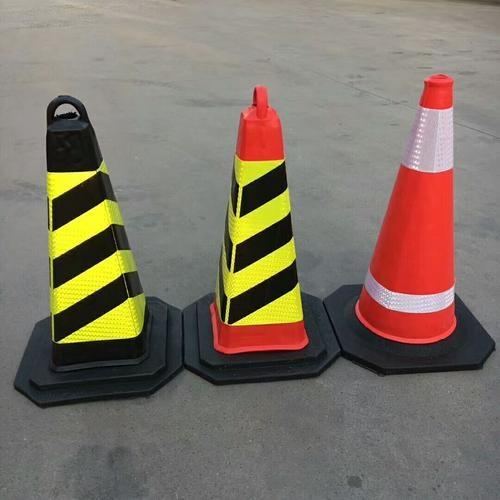cone_barrel: (22, 97, 165, 384), (192, 89, 326, 361), (349, 76, 473, 346)
